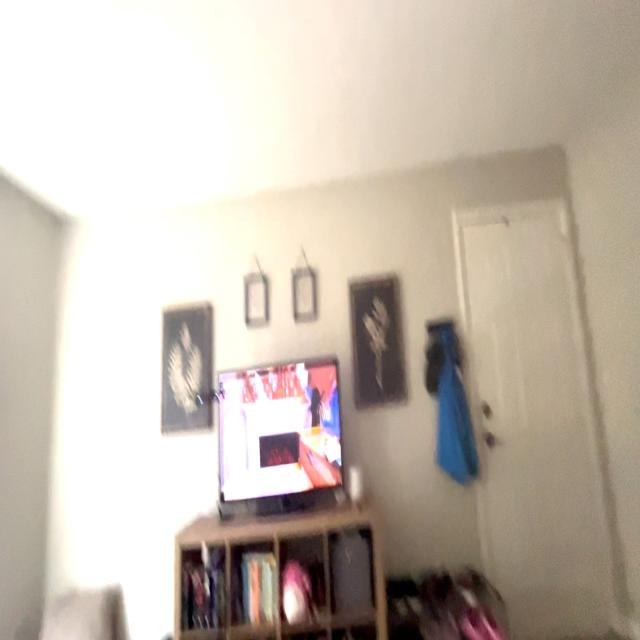drone: (174, 355, 237, 415)
